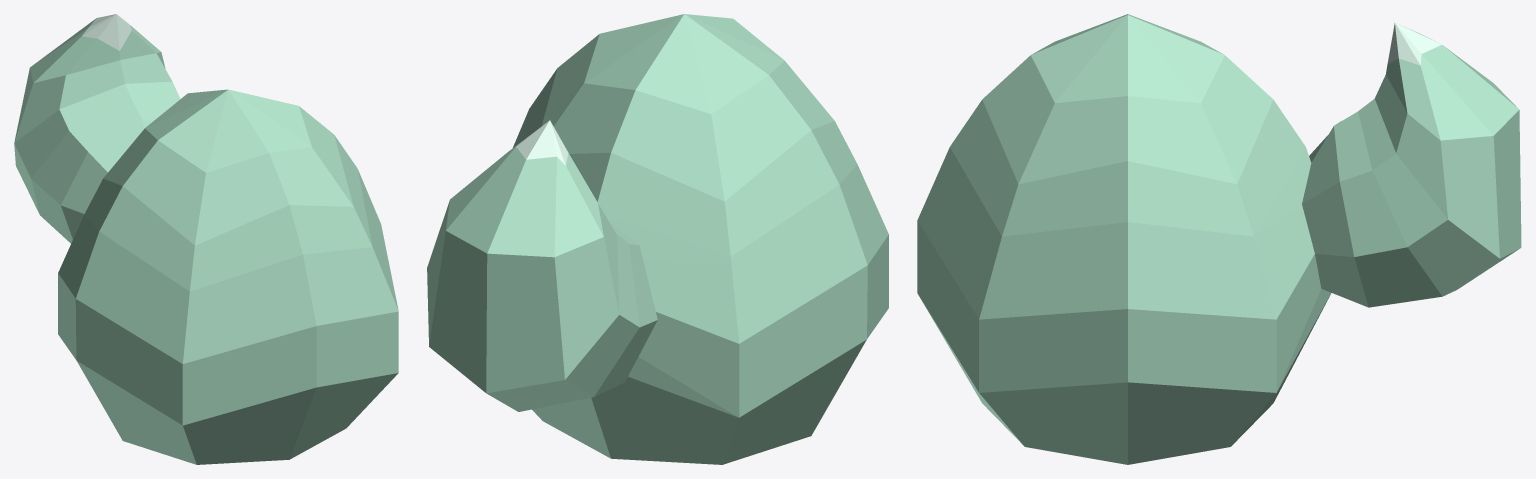
Rendered from Bush2c.fbx.
The picture shows the model from 3 angles, left to right: view 1: azimuth 30°, elevation 25°; view 2: azimuth 150°, elevation 25°; view 3: azimuth 270°, elevation 25°; orthographic projection. The views are drawn at different scales.
Visible parts, largest first — view 1: Circle; view 2: Circle; view 3: Circle.
Boxes of the visible parts, bbox=[...] form: Circle: bbox=[14, 14, 398, 464]; Circle: bbox=[427, 14, 888, 464]; Circle: bbox=[917, 14, 1521, 464].
Bounding box in the file's own units: 260 × 265 × 373.
